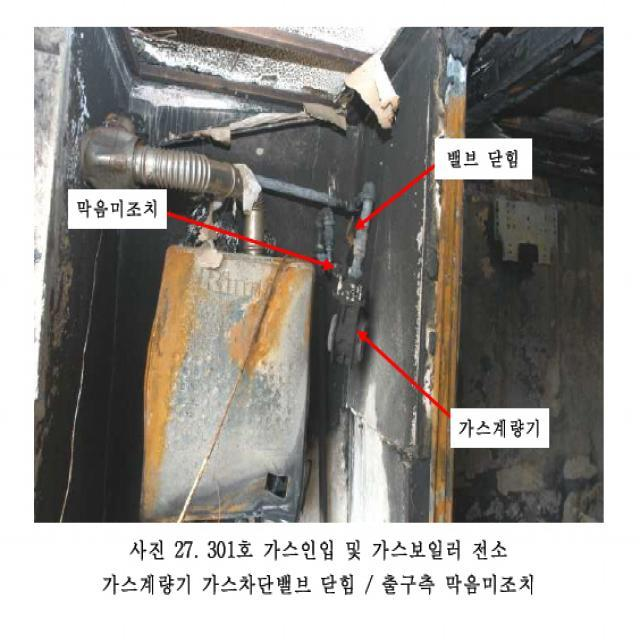Boiler: (114, 212, 340, 576)
